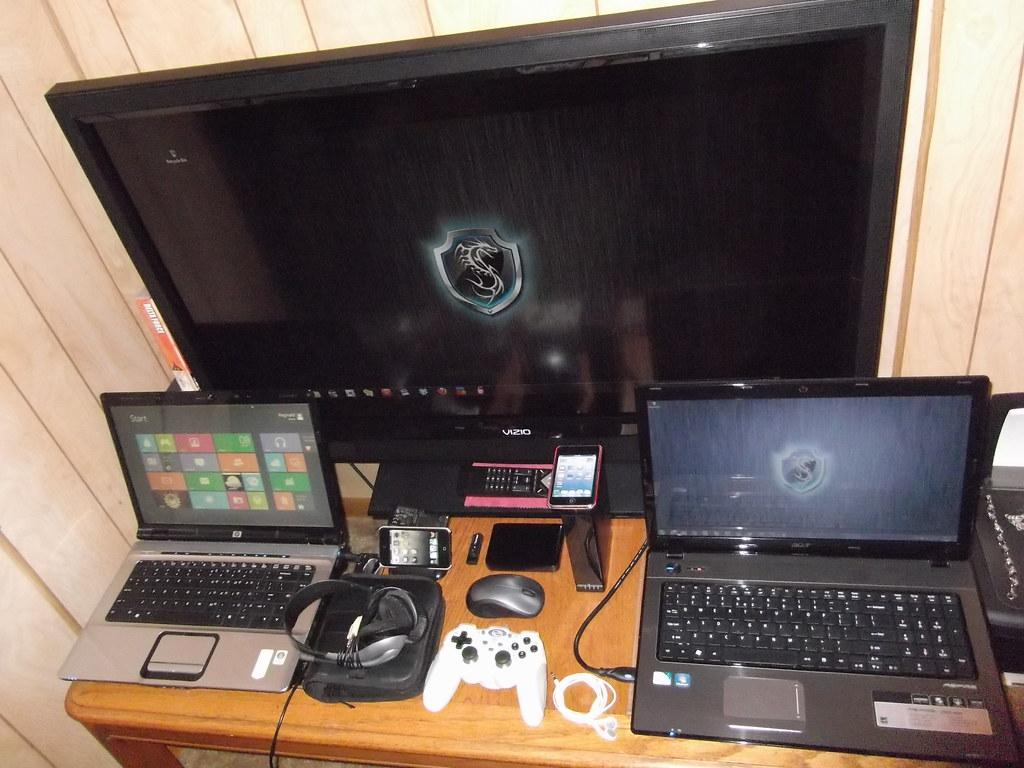computer: (44, 1, 928, 525), (630, 374, 1022, 767), (58, 388, 350, 694)
